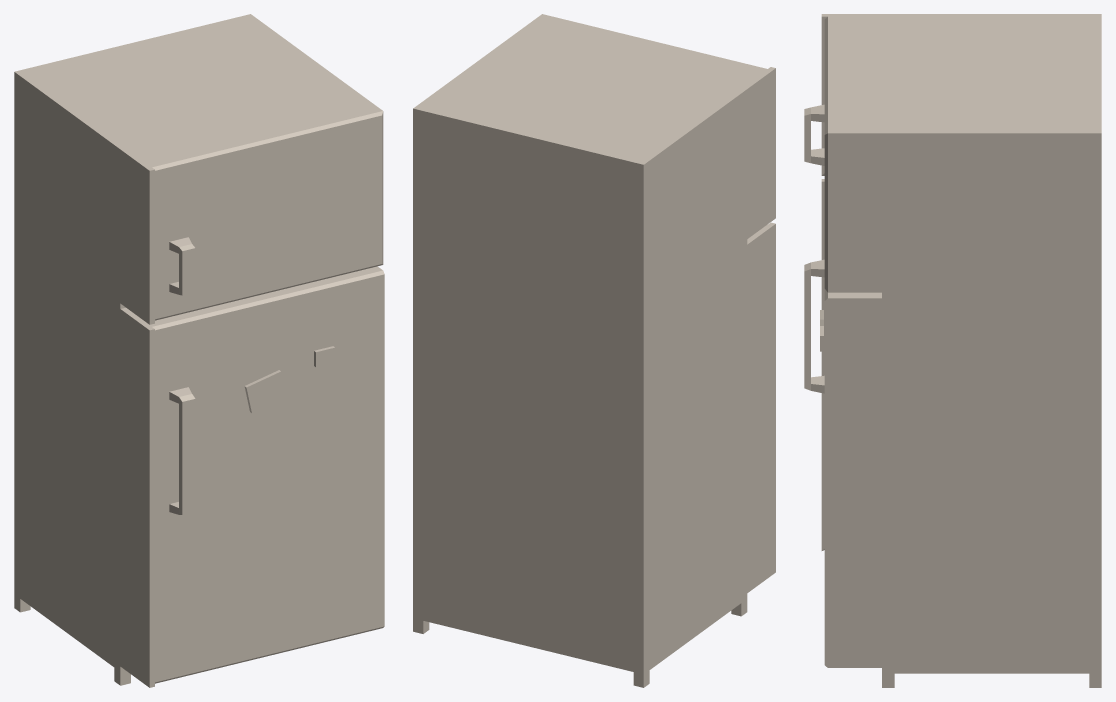
File: refrigerator.fbx
3 views of the same model, side by side, from view 1: azimuth 30°, elevation 25°; view 2: azimuth 150°, elevation 25°; view 3: azimuth 270°, elevation 25° (orthographic). The views are drawn at different scales.
Parts seen in each view (by area): view 1: Fridge; view 2: Fridge; view 3: Fridge.
Boxes of the visible parts, x1,y1,x2,y2 form: Fridge: (14, 14, 384, 687); Fridge: (413, 14, 775, 687); Fridge: (804, 14, 1101, 687).
Bounding box in the file's own units: 9 × 19.5 × 9.48.
